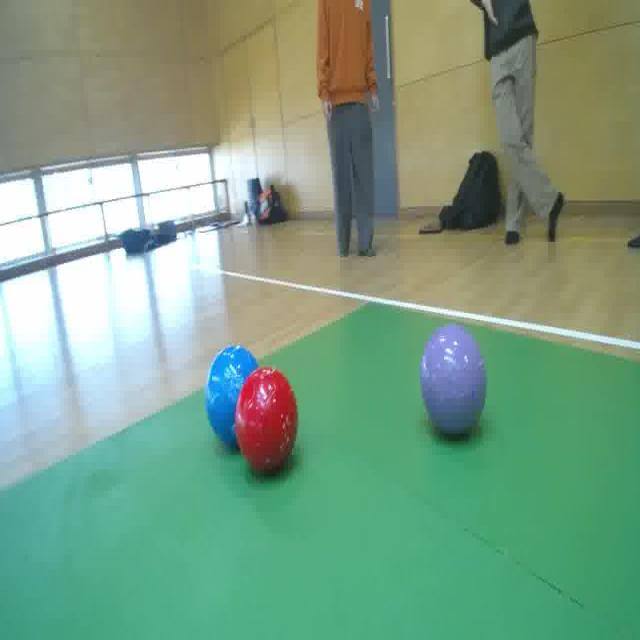blue_ball: (201, 346, 260, 448)
purple_ball: (418, 319, 492, 446)
red_ball: (234, 363, 302, 473)
